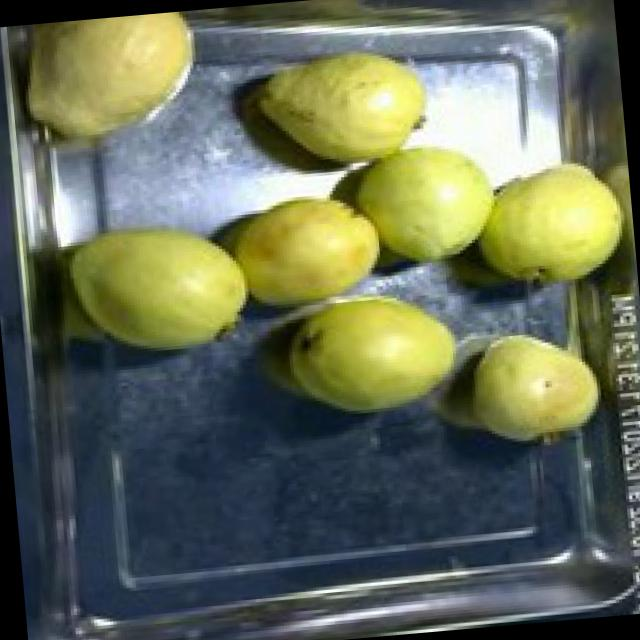Fruit: (228, 21, 449, 192), (54, 201, 262, 371), (0, 8, 224, 164), (434, 140, 638, 300), (269, 272, 473, 429), (199, 172, 400, 330), (332, 115, 510, 279), (458, 311, 616, 458)
